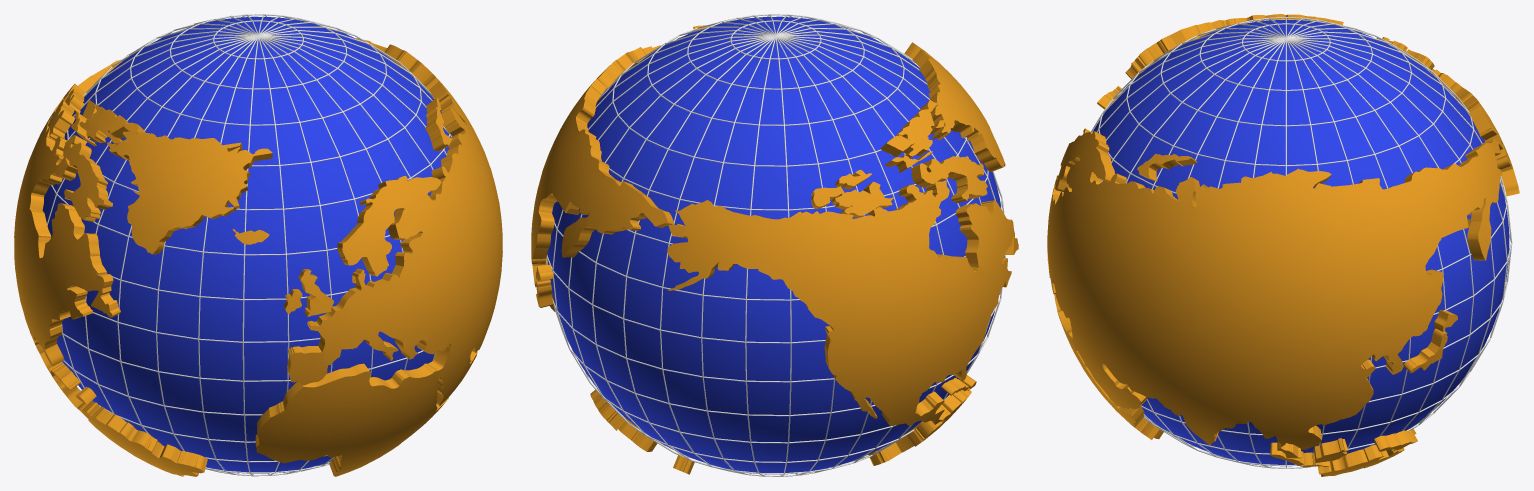
File: earth.glb
3 views of the same model, side by side, from view 1: azimuth 30°, elevation 25°; view 2: azimuth 150°, elevation 25°; view 3: azimuth 270°, elevation 25° (orthographic). The views are drawn at different scales.
Visible parts, largest first — view 1: Icosphere, map, Sphere wire; view 2: Icosphere, map, Sphere wire; view 3: map, Icosphere, Sphere wire.
Part boxes in pixels (box(x1,y1,x2,y2)): Icosphere: box(42, 16, 452, 472); map: box(14, 38, 502, 476); Sphere wire: box(47, 14, 451, 476); Icosphere: box(547, 16, 1004, 472); map: box(531, 25, 1018, 474); Sphere wire: box(545, 14, 1005, 476); map: box(1047, 14, 1519, 476); Icosphere: box(1071, 20, 1509, 464); Sphere wire: box(1091, 17, 1512, 468).
Bounding box in the file's own units: 2.14 × 2.03 × 2.12.
